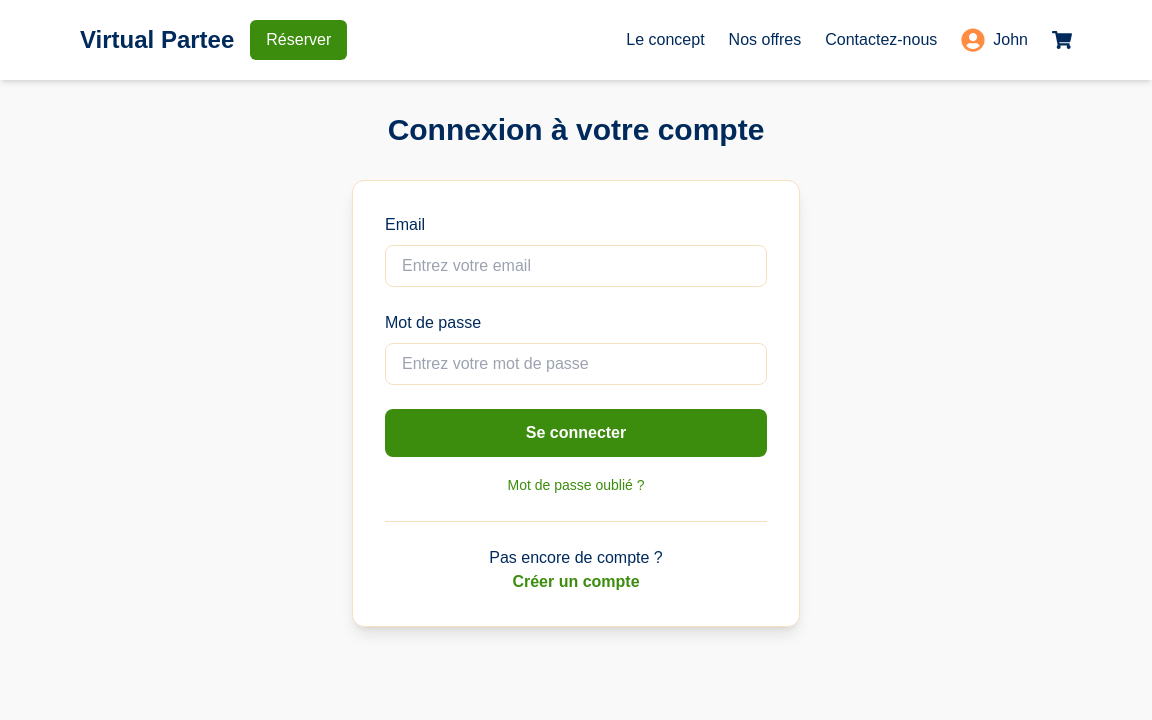
Test case: Authentification › devrait afficher une erreur pour des identifiants invalides
# Remplir le formulaire avec des identifiants invalides
Type "wrong@example.com" into the field named "email".
click(576, 266); type("wrong@example.com")  # box [385, 245, 767, 287]
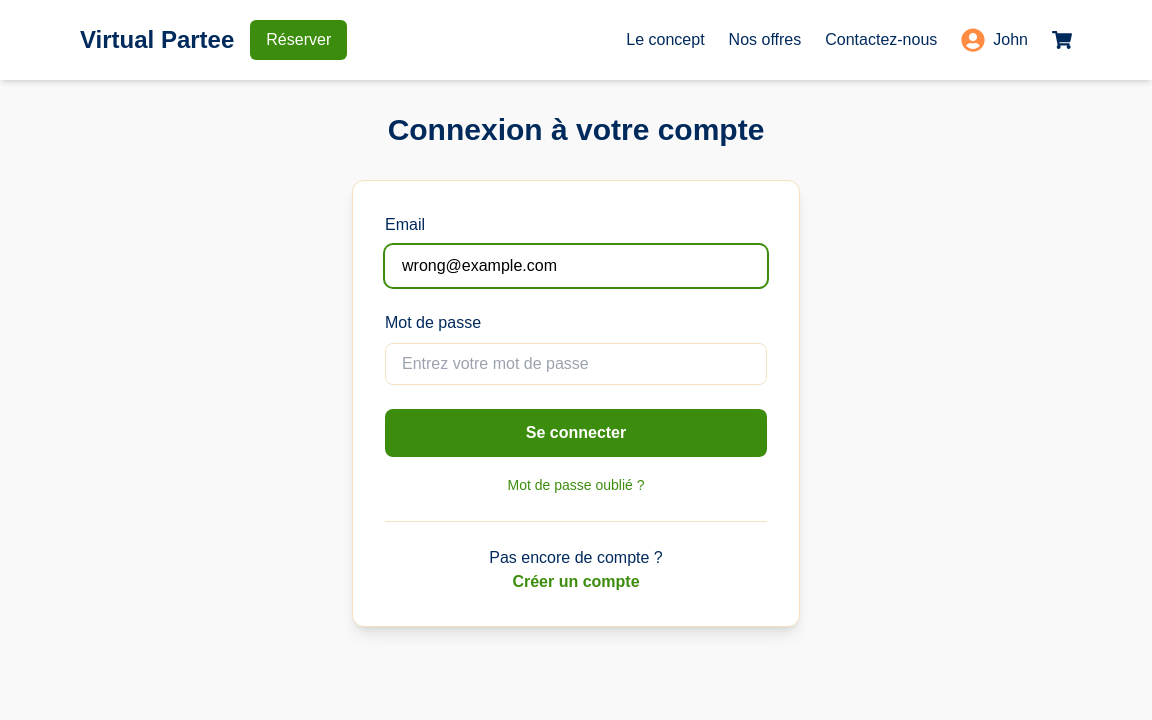
Type "wrongpassword" into the password field named "password".
click(576, 364); type("wrongpassword")  # box [385, 343, 767, 385]
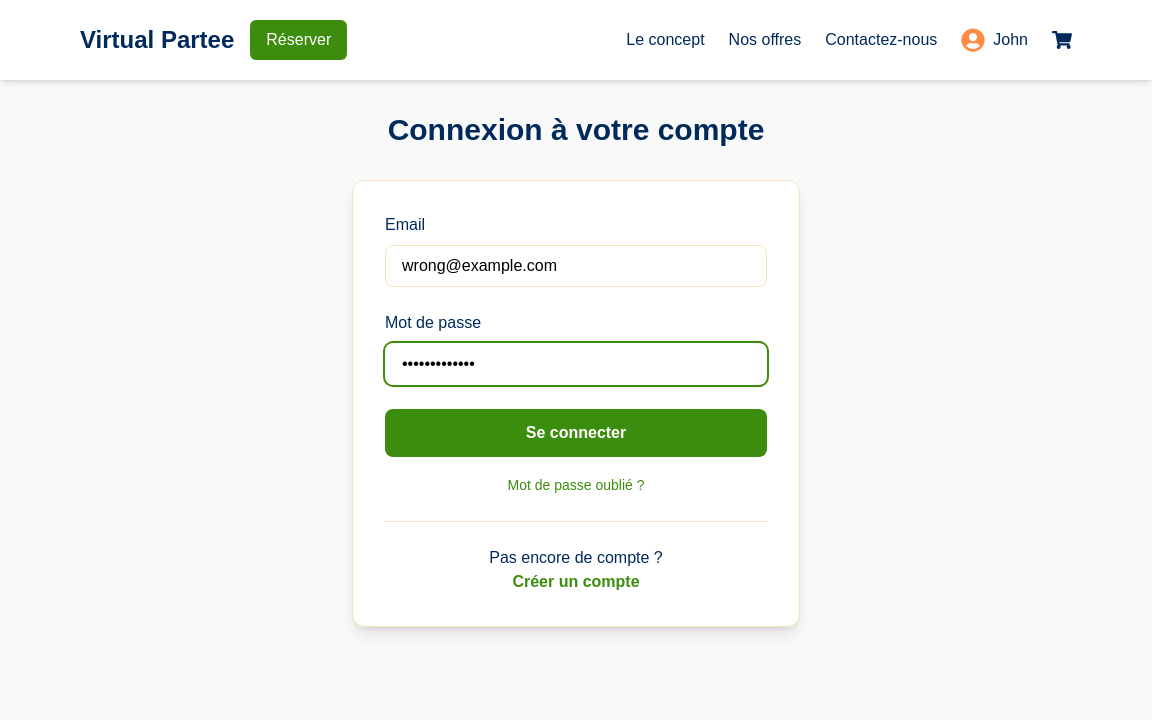
# Soumettre le formulaire
Click the submit button.
click(576, 433)  # box [385, 409, 767, 457]
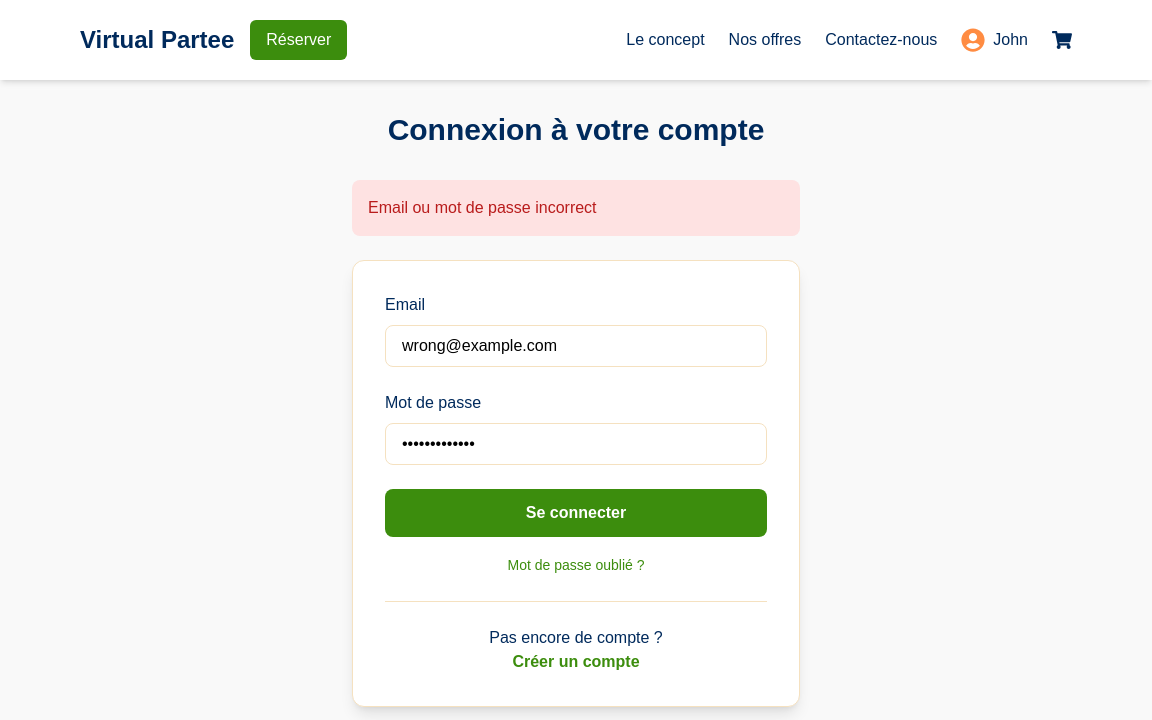
Expected: the text "Email ou mot de passe incorrect" is shown, [352, 180, 800, 236]
